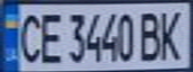0: (115, 9, 139, 62)
3: (63, 9, 87, 63)
4: (81, 9, 103, 63), (100, 8, 121, 62)
B: (136, 8, 166, 62)
C: (12, 8, 45, 65)
E: (36, 8, 66, 64)
K: (154, 7, 190, 61)
